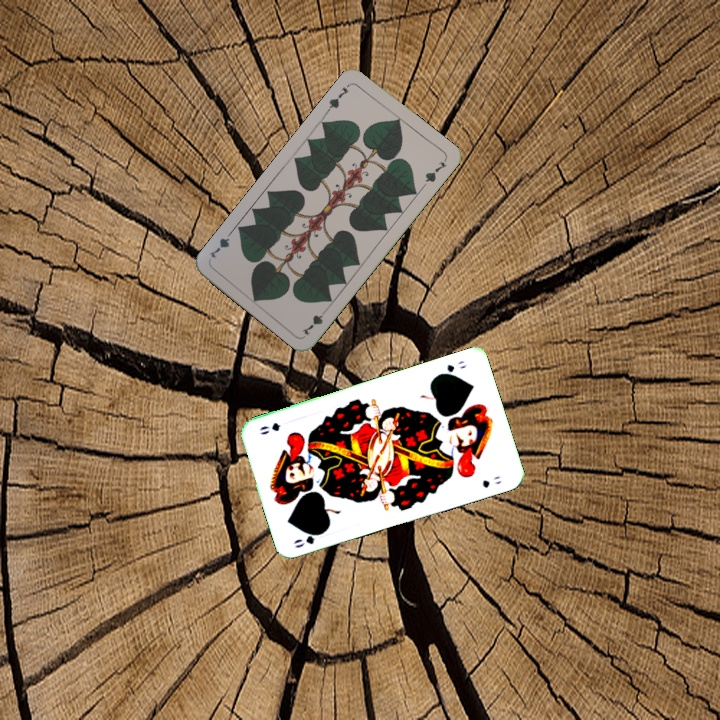G7: (298, 304, 331, 338), (323, 80, 353, 114)
GO: (289, 526, 328, 551), (434, 357, 469, 378)
